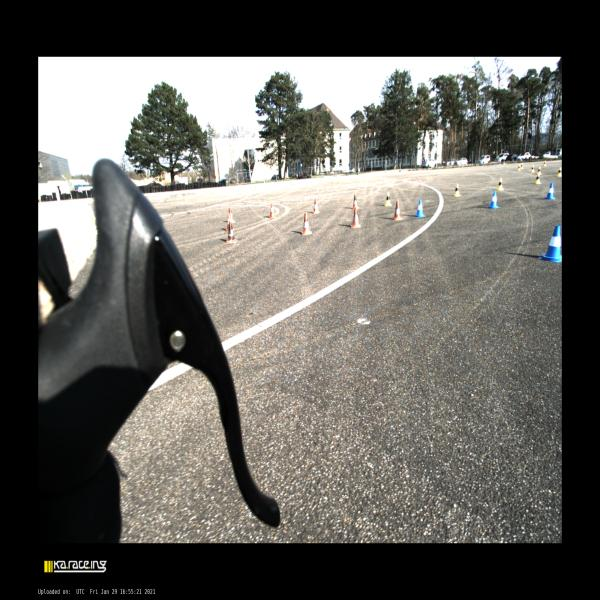blue_cone: (537, 225, 562, 263), (413, 199, 426, 217), (488, 190, 500, 209), (544, 182, 555, 200)
orange_cone: (224, 220, 238, 245), (301, 212, 313, 235), (350, 207, 361, 228), (392, 199, 403, 220), (224, 212, 235, 231), (226, 206, 236, 223), (311, 197, 321, 214), (351, 194, 360, 209), (268, 202, 276, 218)
yellow_cone: (384, 191, 392, 207), (496, 177, 504, 191), (453, 183, 461, 196), (534, 173, 542, 184), (536, 166, 542, 175), (557, 168, 562, 177), (530, 164, 535, 172), (517, 164, 521, 171), (520, 163, 524, 169), (543, 160, 546, 167)
